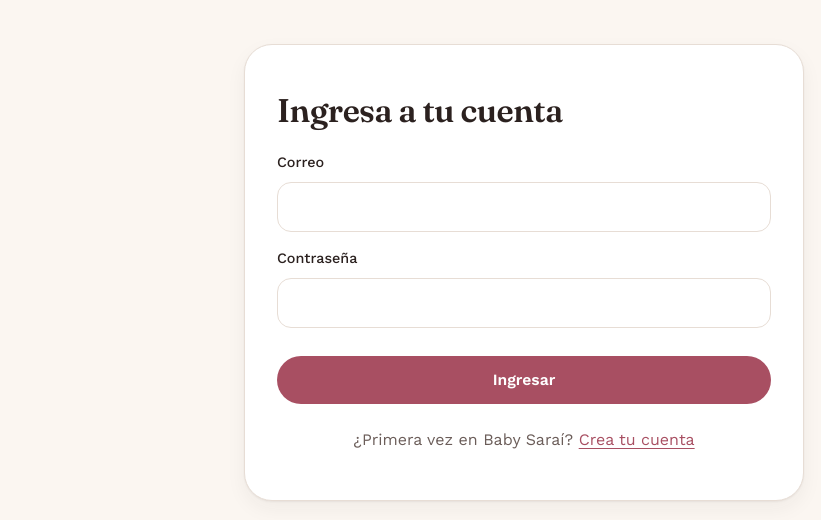
Test case: Ingresar + AuthProvider › guarda el token y lleva a la administradora al panel
Type "admin@babysarai.com" into the field labelled "Correo" at coordinates (524, 207), box [277,182,771,232]
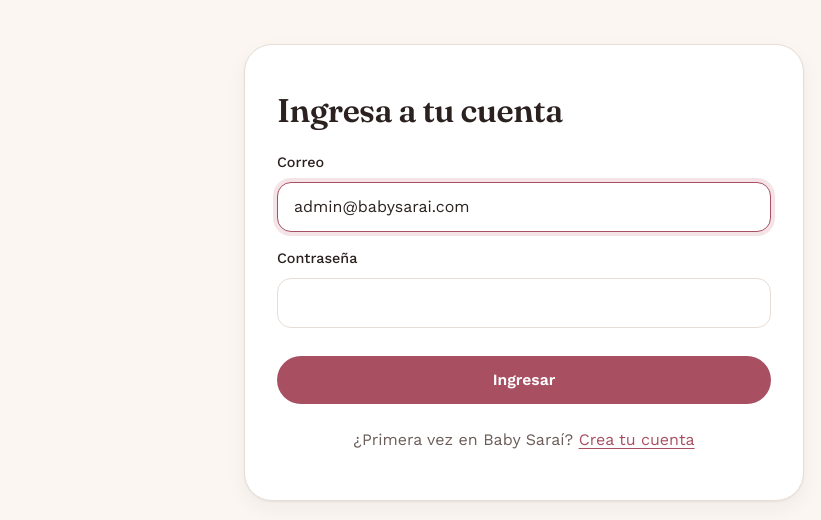
Type "Admin2026" into the password field labelled "Contraseña" at coordinates (524, 303), box [277,278,771,328]
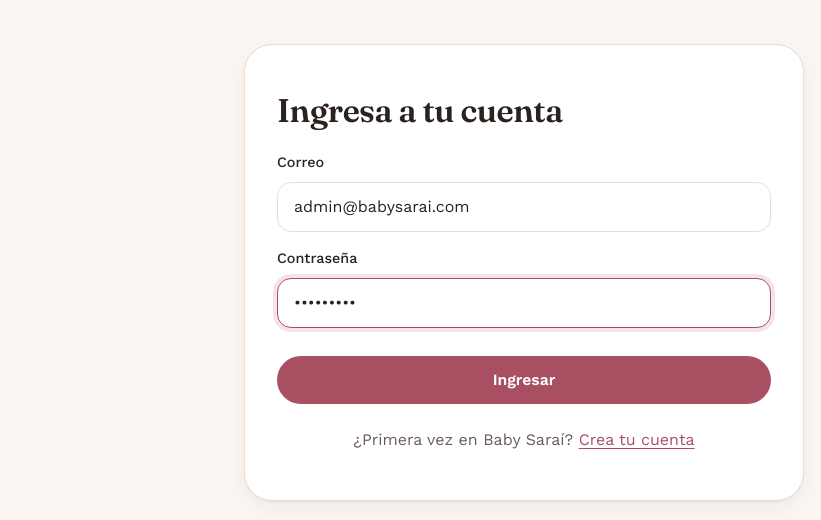
Click the button "Ingresar" at coordinates (524, 380), box [277,356,771,404]
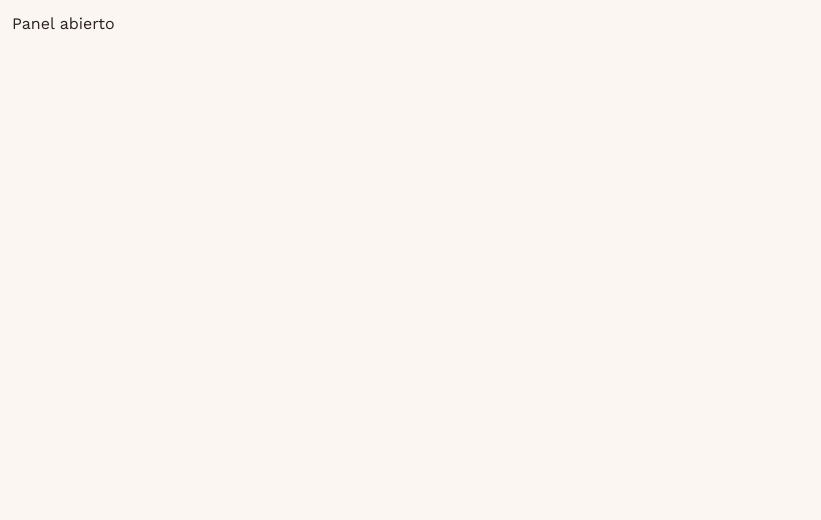
Check: the text "Panel abierto" is shown, box [12,14,115,33]
